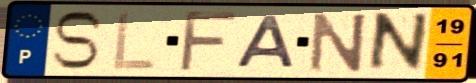A: (234, 13, 299, 70)
F: (175, 9, 240, 74)
L: (110, 10, 159, 72)
N: (363, 10, 432, 76), (307, 11, 370, 74)
S: (48, 9, 106, 72)
